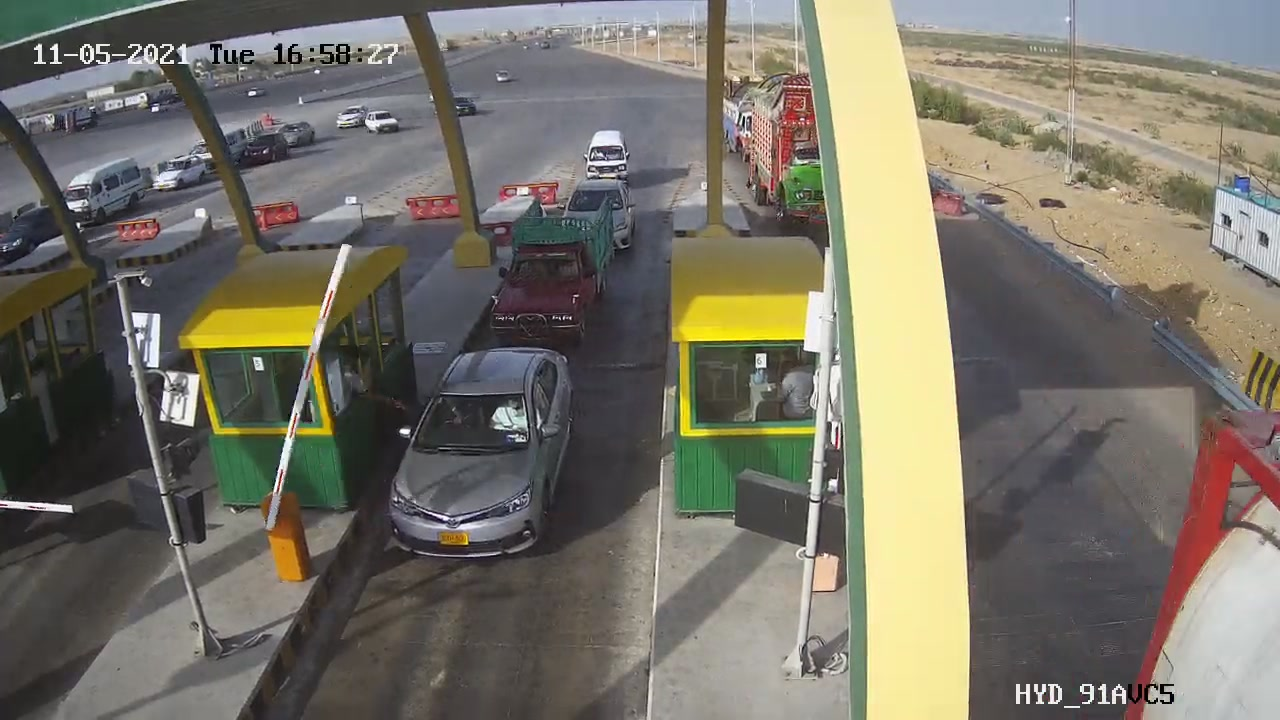F1: (374, 329, 580, 567)
